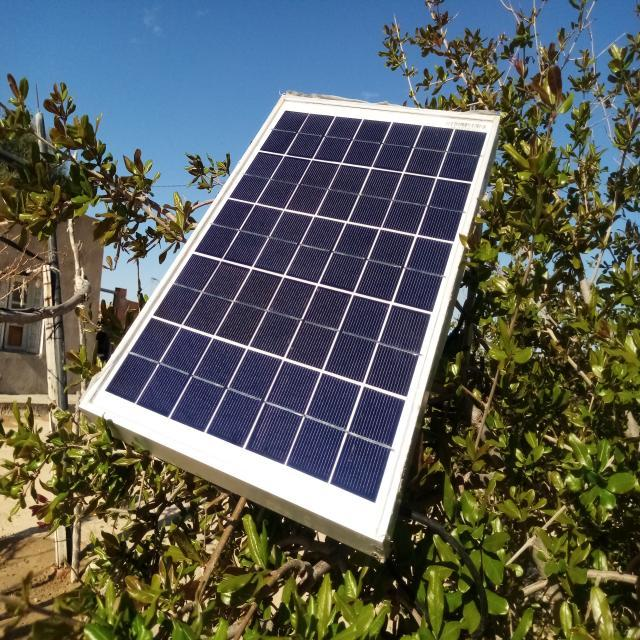no faulty: (77, 92, 500, 554)
